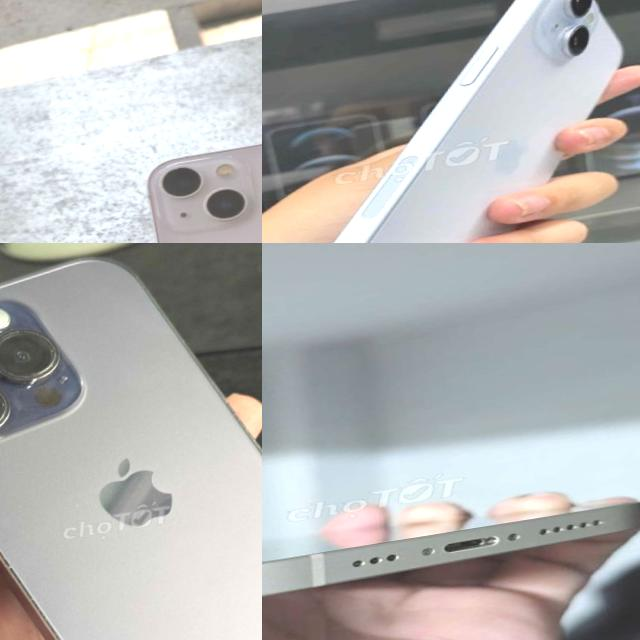gen_12_13: (139, 121, 262, 243)
gen_14: (0, 243, 262, 640), (262, 461, 640, 640)
gen_15: (262, 0, 640, 243)
